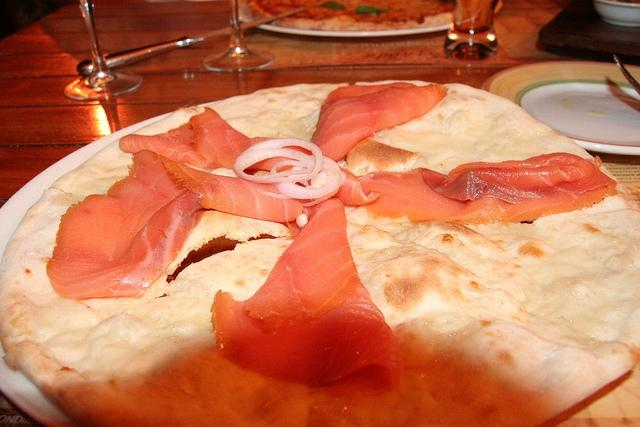onion: (233, 138, 323, 183), (233, 148, 314, 181), (271, 163, 342, 198), (311, 172, 327, 189), (299, 180, 310, 186)
